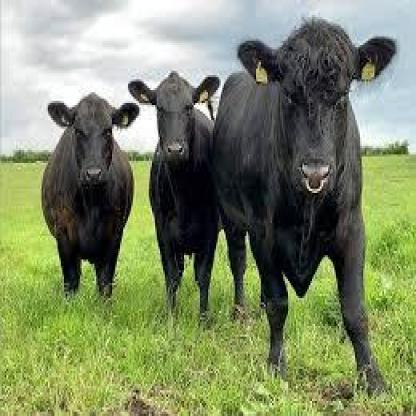cow: (214, 20, 396, 396), (128, 70, 248, 340), (41, 91, 140, 301)
